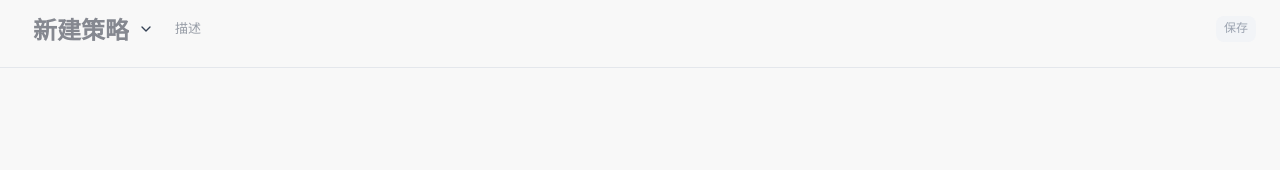
Test: StrictMode 下关闭重开菜单后忽略旧列表响应
The width and height of the screenshot is (1280, 170).
Click the button named "切换策略" at {"x": 146, "y": 28}, box [134,16,158,40]
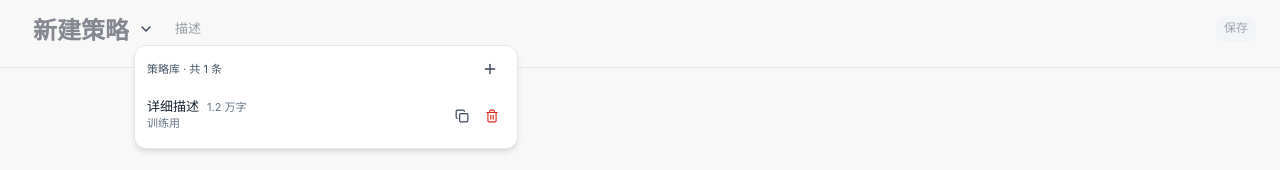
Press Escape
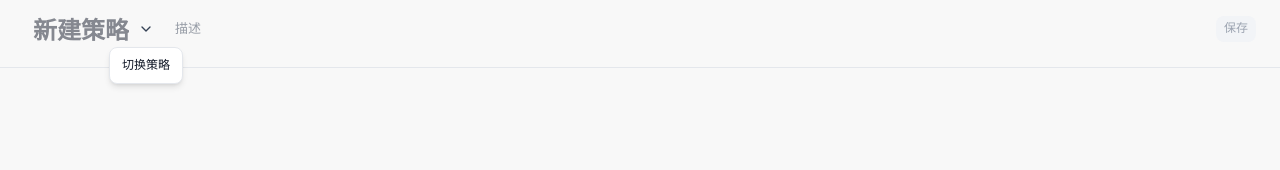
Click the button named "切换策略" at {"x": 146, "y": 28}, box [134,16,158,40]
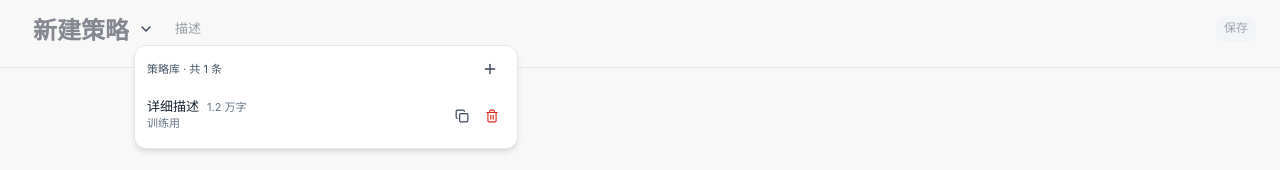
Expected: the button "详细描述 1.2 万字 训练用" is shown, [147,96,445,131]
